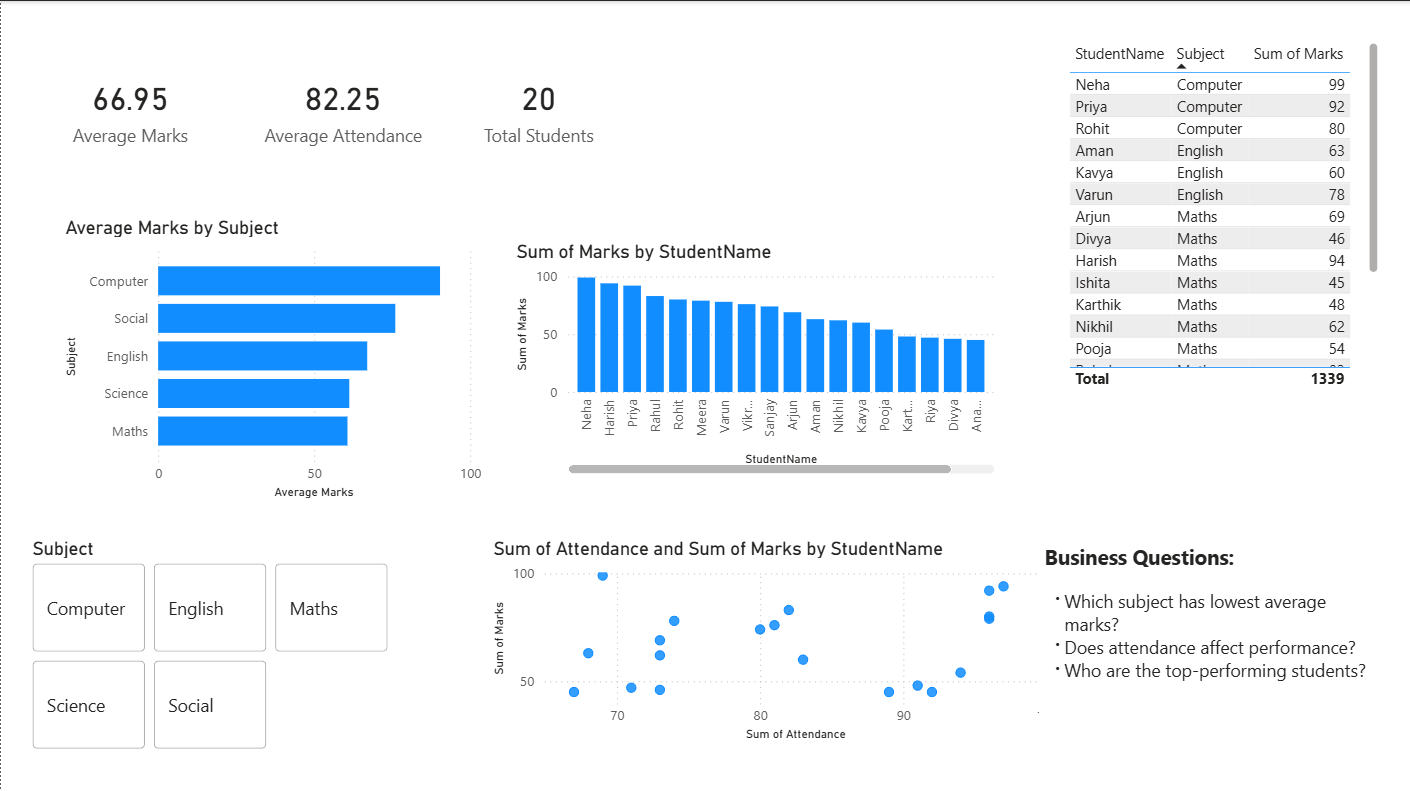

What the dashboard file says about the page in this screenshot:
{"tool":"powerbi","page":{"name":"Page 1","canvas":[1280,720],"ordinal":0},"visuals":[{"type":"card","fields":{"Values":["student_data.Average Marks"]},"box":[0,0,234.6,194.9],"z":0},{"type":"card","fields":{"Values":["student_data.Average Attendance"]},"box":[204.5,0,212.7,194.9],"z":1000},{"type":"card","fields":{"Values":["student_data.Total Students"]},"box":[382.8,27.4,209.9,140],"z":2000},{"type":"clusteredBarChart","fields":{"Category":["student_data.Subject"],"Y":["student_data.Average Marks"]},"box":[53.5,194.9,387,260.7],"z":3000},{"type":"tableEx","fields":{"Values":["student_data.StudentName","student_data.Subject","Sum(student_data.Marks)"]},"box":[963.3,32.9,290.9,323.8],"z":4000},{"type":"scatterChart","fields":{"X":["Sum(student_data.Attendance)"],"Y":["Sum(student_data.Marks)"],"Category":["student_data.StudentName"]},"box":[441.9,485.8,521.4,189.4],"z":5000},{"type":"columnChart","fields":{"Y":["Sum(student_data.Marks)"],"Category":["student_data.StudentName"]},"box":[462.4,216.8,443.2,216.8],"z":6000},{"type":"advancedSlicerVisual","fields":{"Values":["student_data.Subject"]},"box":[23.3,485.8,332.1,199],"z":7000},{"type":"textbox","box":[941.3,485.8,312.9,189.4],"z":7001}]}

Visuals, with their boxes in screenshot pixels (x1, y1, x2, y2), scaled from the page's 1280x720 canvas onto the 1410x791 screenshot:
card - student_data.Average Marks: [x1=0, y1=0, x2=258, y2=214]
card - student_data.Average Attendance: [x1=225, y1=0, x2=460, y2=214]
card - student_data.Total Students: [x1=422, y1=30, x2=653, y2=184]
clusteredBarChart - student_data.Subject x student_data.Average Marks: [x1=59, y1=214, x2=485, y2=501]
tableEx - student_data.StudentName x student_data.Subject: [x1=1061, y1=36, x2=1382, y2=392]
scatterChart - Sum(student_data.Attendance) x Sum(student_data.Marks): [x1=487, y1=534, x2=1061, y2=742]
columnChart - Sum(student_data.Marks) x student_data.StudentName: [x1=509, y1=238, x2=998, y2=476]
advancedSlicerVisual - student_data.Subject: [x1=26, y1=534, x2=391, y2=752]
textbox: [x1=1037, y1=534, x2=1382, y2=742]
